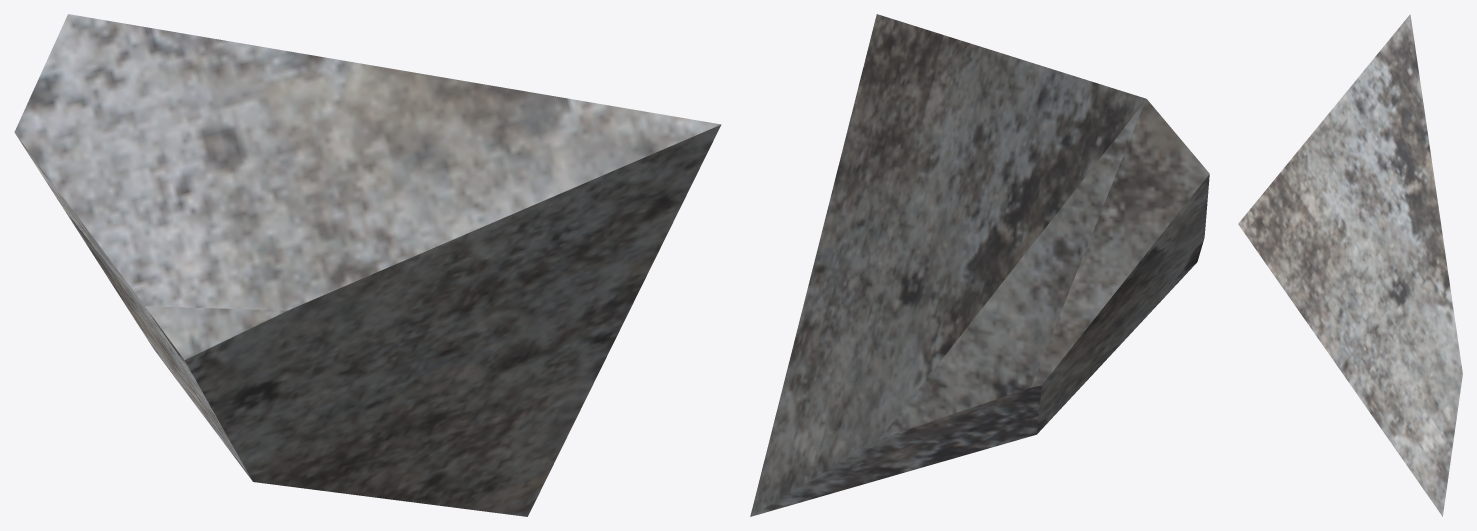
File: Asteroid_Medium_001_02_002_03_010.fbx
The picture shows the model from 3 angles, left to right: view 1: azimuth 30°, elevation 25°; view 2: azimuth 150°, elevation 25°; view 3: azimuth 270°, elevation 25°; orthographic projection. The views are drawn at different scales.
Parts seen in each view (by area): view 1: Asteroid_Medium_001_02_002_03_010; view 2: Asteroid_Medium_001_02_002_03_010; view 3: Asteroid_Medium_001_02_002_03_010.
Part boxes in pixels (box(x1,y1,x2,y2)): Asteroid_Medium_001_02_002_03_010: box(14, 14, 721, 516); Asteroid_Medium_001_02_002_03_010: box(750, 14, 1209, 516); Asteroid_Medium_001_02_002_03_010: box(1238, 14, 1462, 516).
Bounding box in the file's own units: 6.45 × 6.94 × 3.86.
